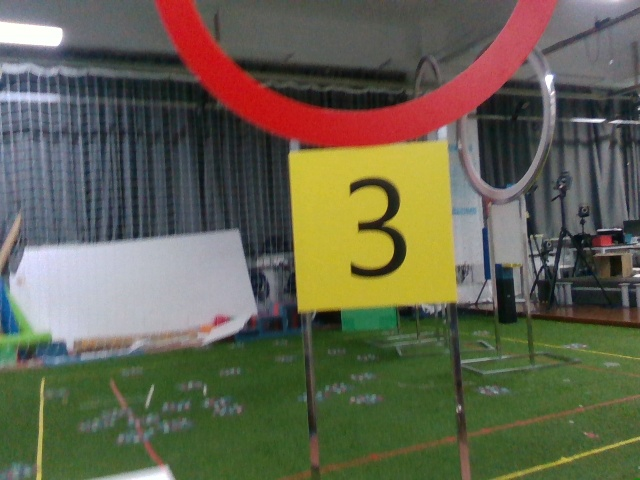target: (298, 156, 445, 298)
